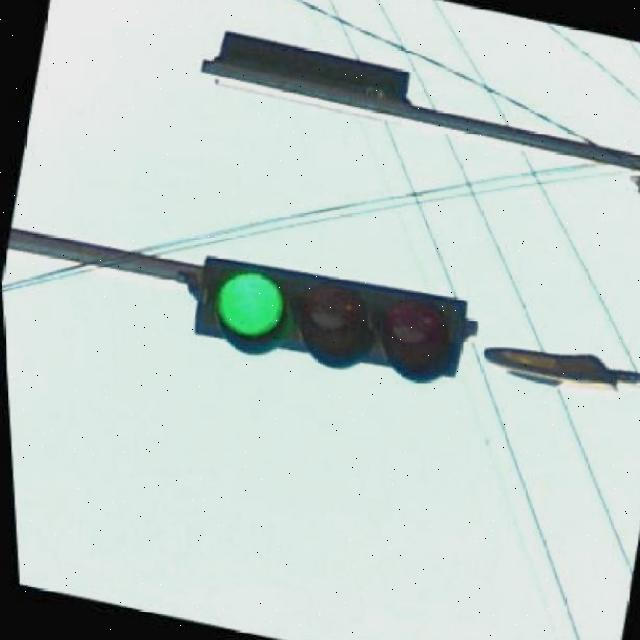Lampu Hijau: (180, 237, 480, 401)
